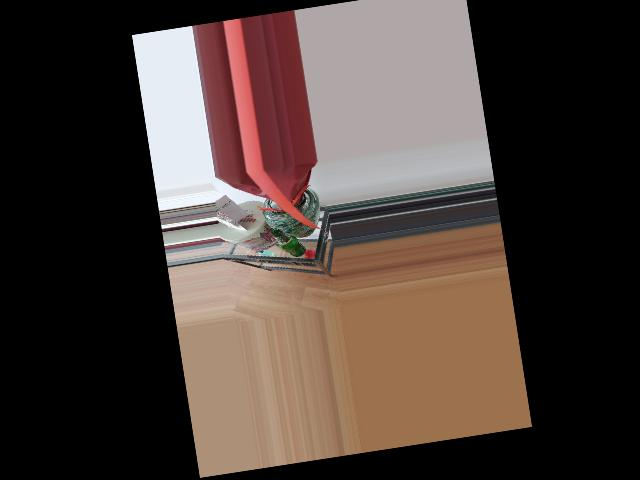beer: (271, 224, 307, 260)
